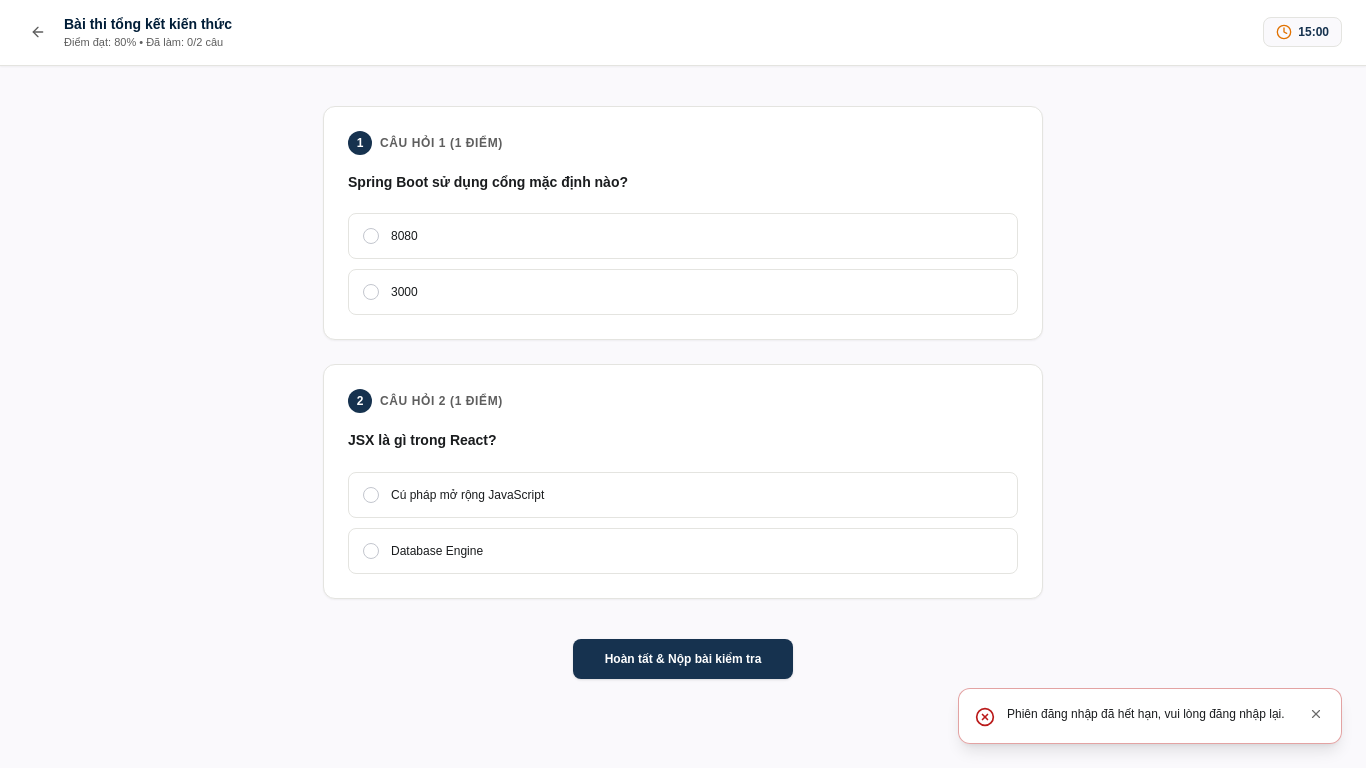
it: QuizTakingPage Component with MSW › (c) bấm Back giữa lúc làm bài thì hiện hộp thoại xác nhận rời khỏi bài thi trên màn hình
Expected: the heading "Bài thi tổng kết kiến thức" is shown, top-left (64, 14), bottom-right (232, 34)
Click the button named "Quay lại bài học".
click(38, 32)  # box top-left (24, 18), bottom-right (52, 46)
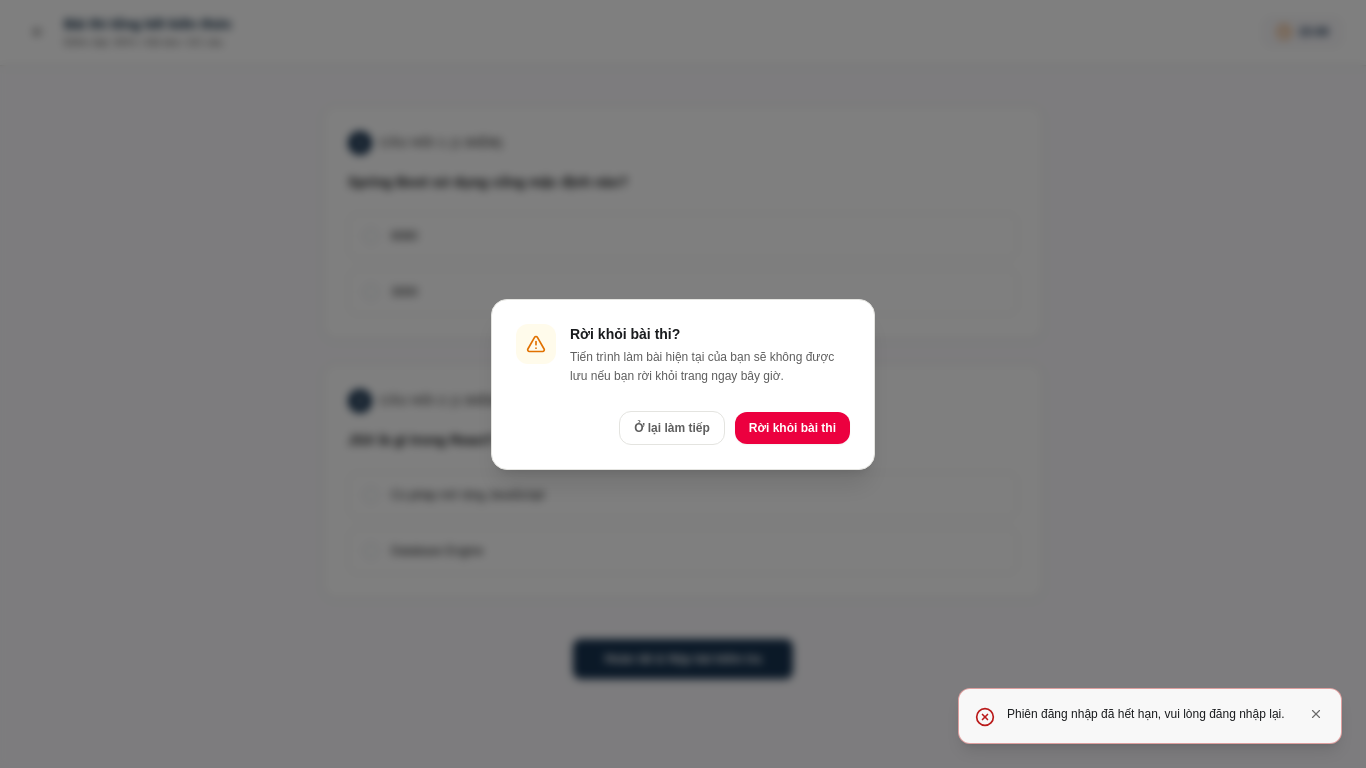
Expected: the heading "Rời khỏi bài thi?" is shown, top-left (570, 326), bottom-right (680, 342)
Expected: the button "Ở lại làm tiếp" is shown, top-left (619, 410), bottom-right (725, 444)
Expected: the button "Rời khỏi bài thi" is shown, top-left (735, 412), bottom-right (850, 444)
